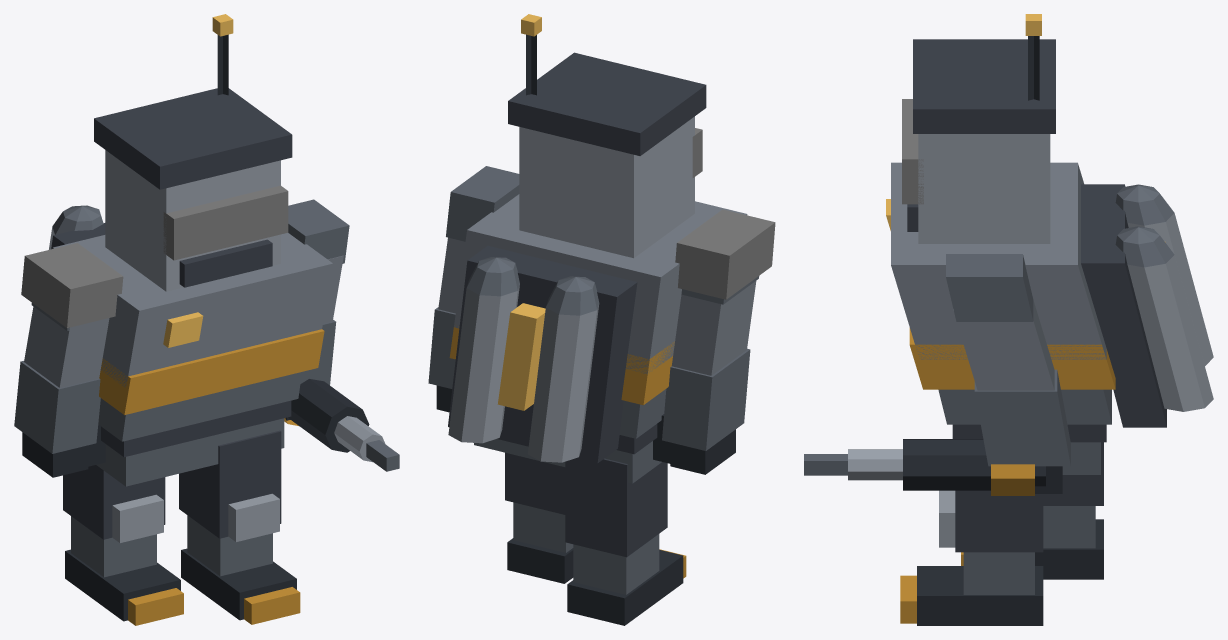
Rendered from engineer-attack-3.obj.
The picture shows the model from 3 angles, left to right: view 1: azimuth 30°, elevation 25°; view 2: azimuth 150°, elevation 25°; view 3: azimuth 270°, elevation 25°; orthographic projection. The views are drawn at different scales.
Visible parts, largest first — view 1: engineer-attack-3; view 2: engineer-attack-3; view 3: engineer-attack-3.
Boxes of the visible parts, box(x1,y1,x2,y2) form: engineer-attack-3: box(14, 14, 399, 625); engineer-attack-3: box(428, 14, 775, 625); engineer-attack-3: box(804, 14, 1213, 625).
Size of the model in its own units: 1.31 by 2.4 by 1.49.
